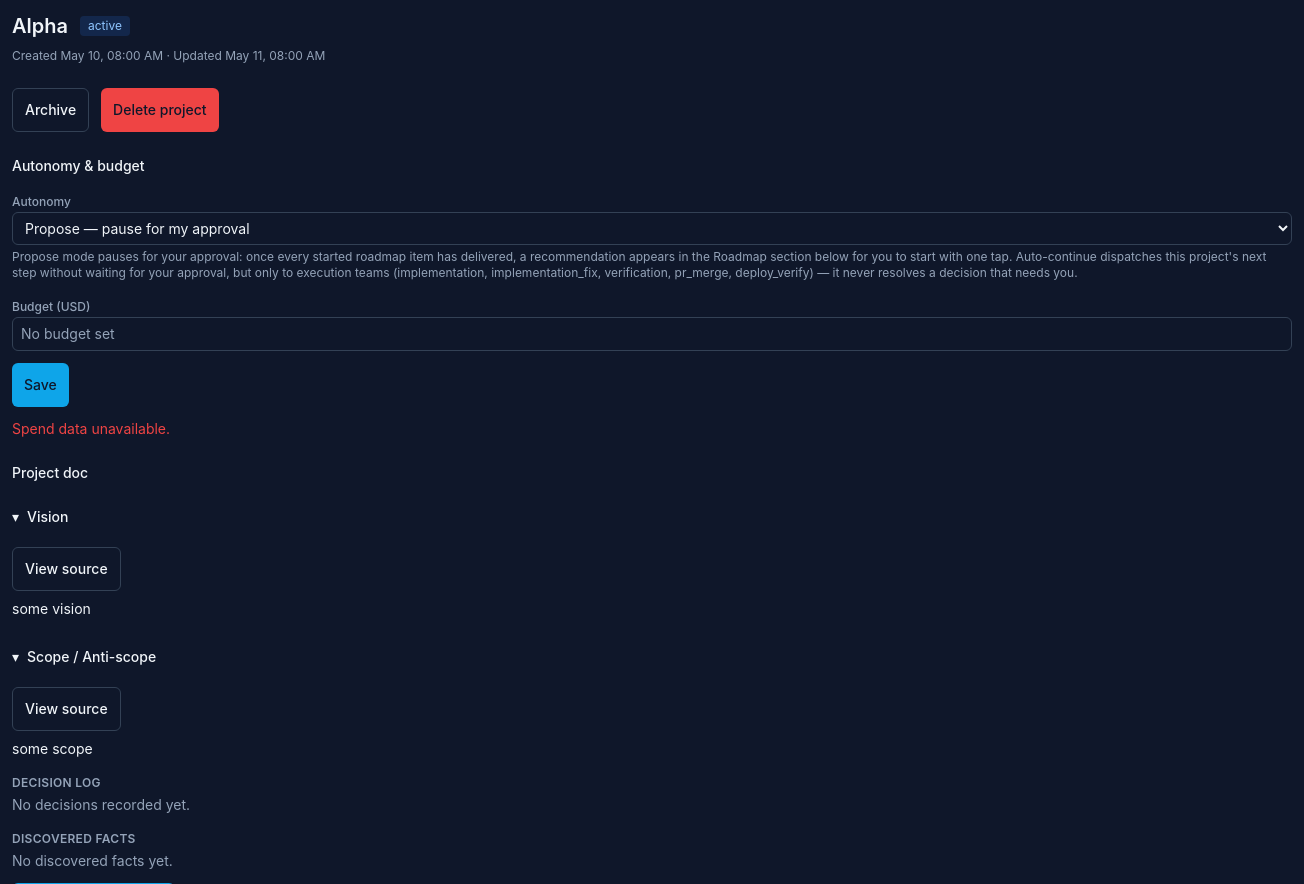
Scenario: Project busy-state sites onto the shared action hook › ArchiveToggleButton clears busy and flips its label after a successful settle
The width and height of the screenshot is (1304, 884).
Step 1. Click the button with test id "project-archive-toggle" → click(51, 110), box x1=12 y1=88 x2=89 y2=132
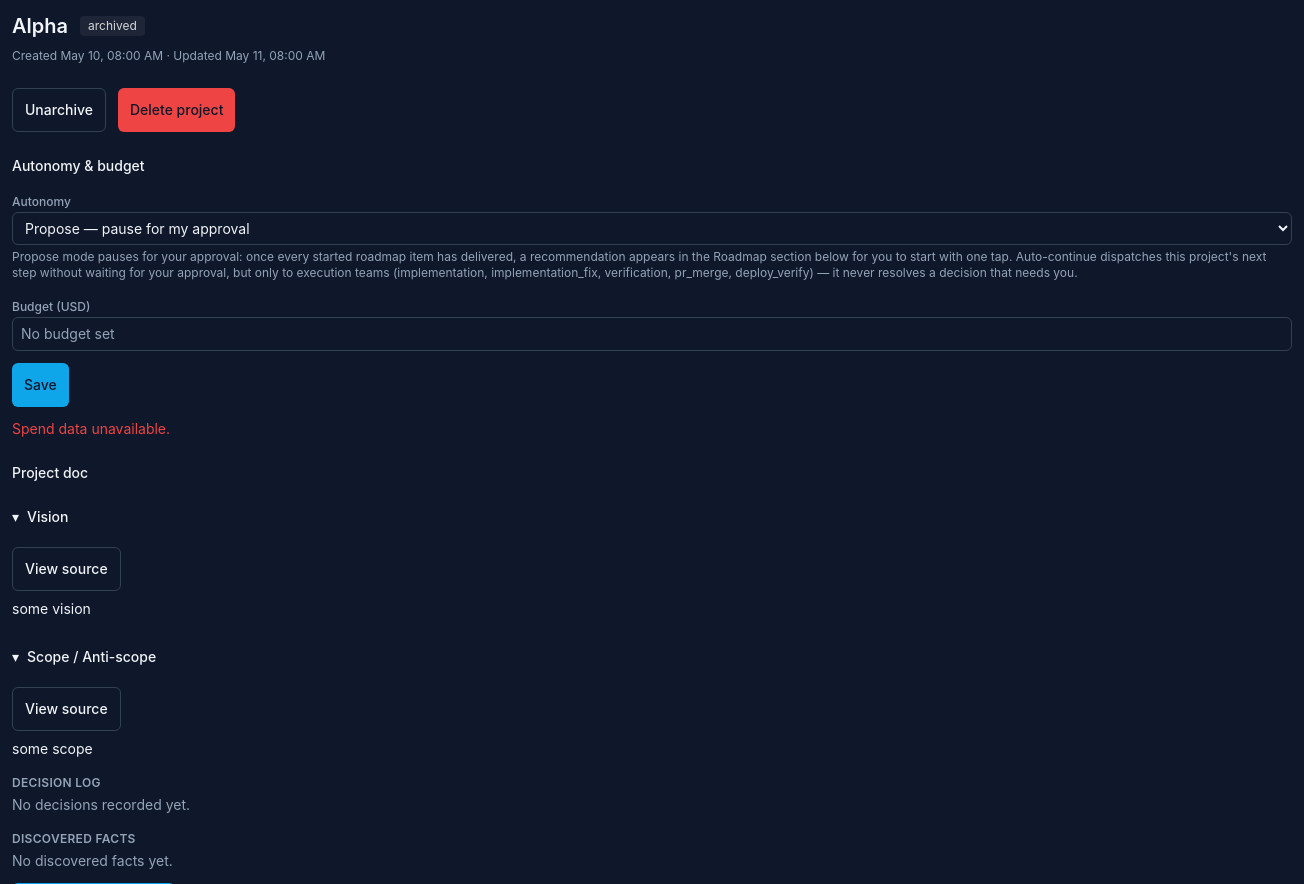
expect the button with test id "project-archive-toggle" reads "Unarchive": met, box x1=12 y1=88 x2=106 y2=132
